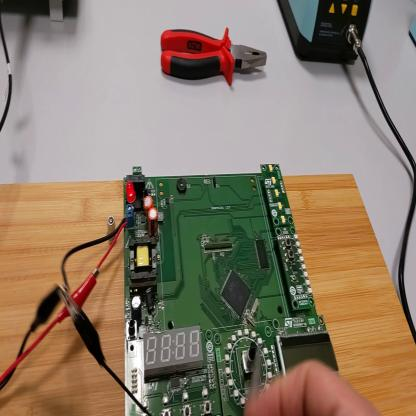hand: (246, 359, 386, 416)
low voltage board: (59, 163, 340, 416)
oscilloscope: (48, 1, 65, 22)
oscilloscope probe tip: (243, 343, 264, 415)
pliers: (159, 25, 268, 88)
welder base: (409, 9, 416, 45)
welder station: (279, 2, 373, 68)
working area: (2, 172, 416, 416)
